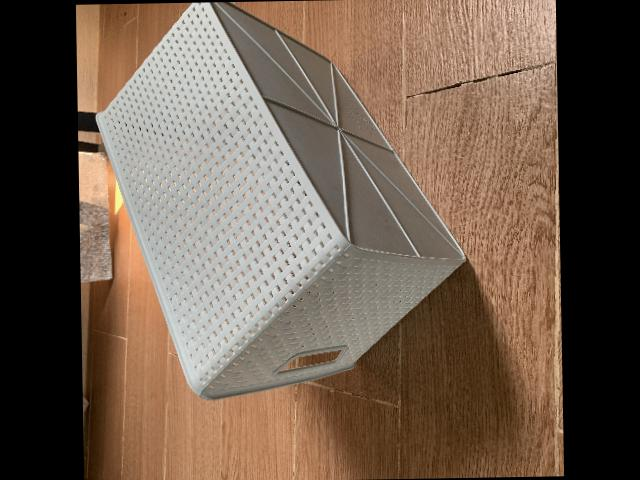cart: (96, 1, 468, 401)
